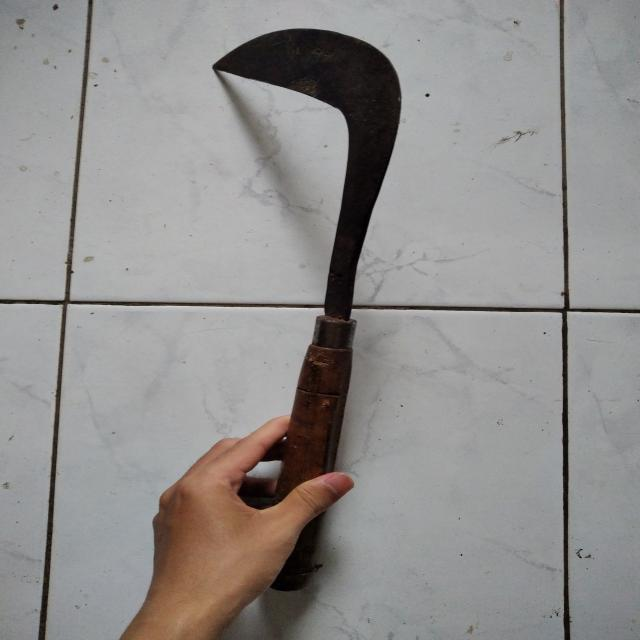Celurit: (218, 32, 403, 591)
